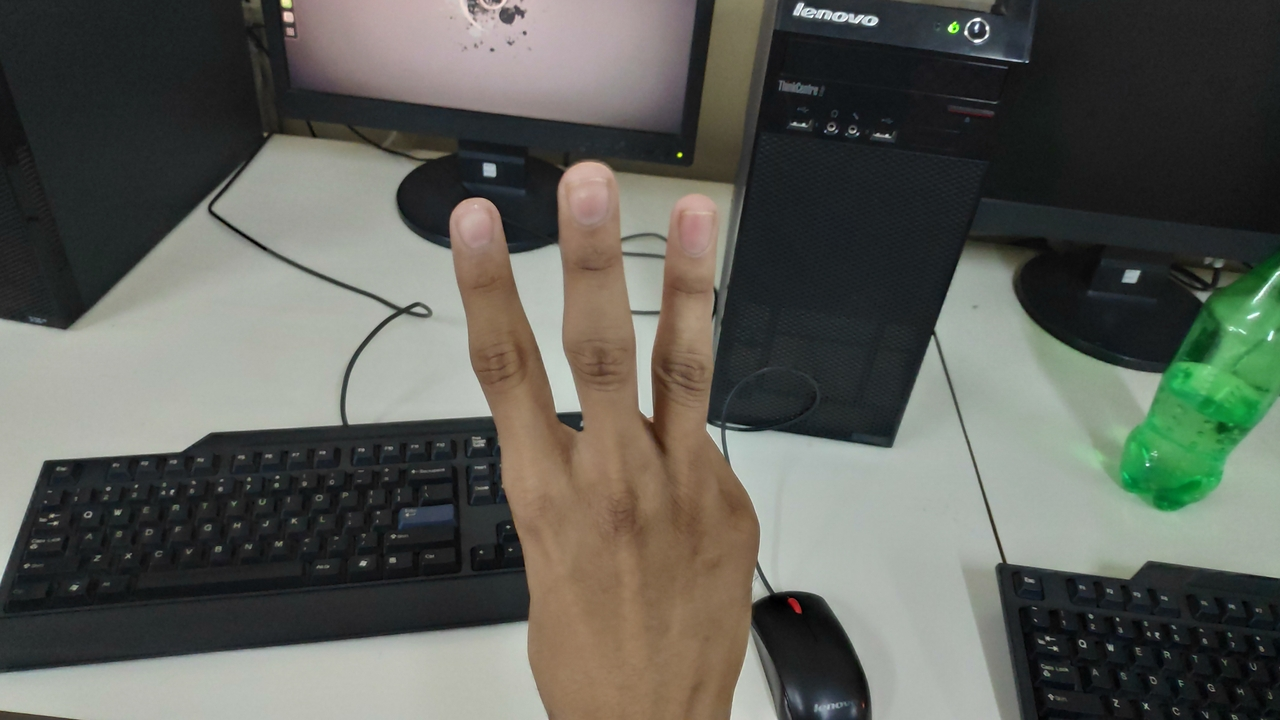fingertip: (544, 156, 622, 230), (656, 186, 722, 254), (442, 194, 510, 256)
